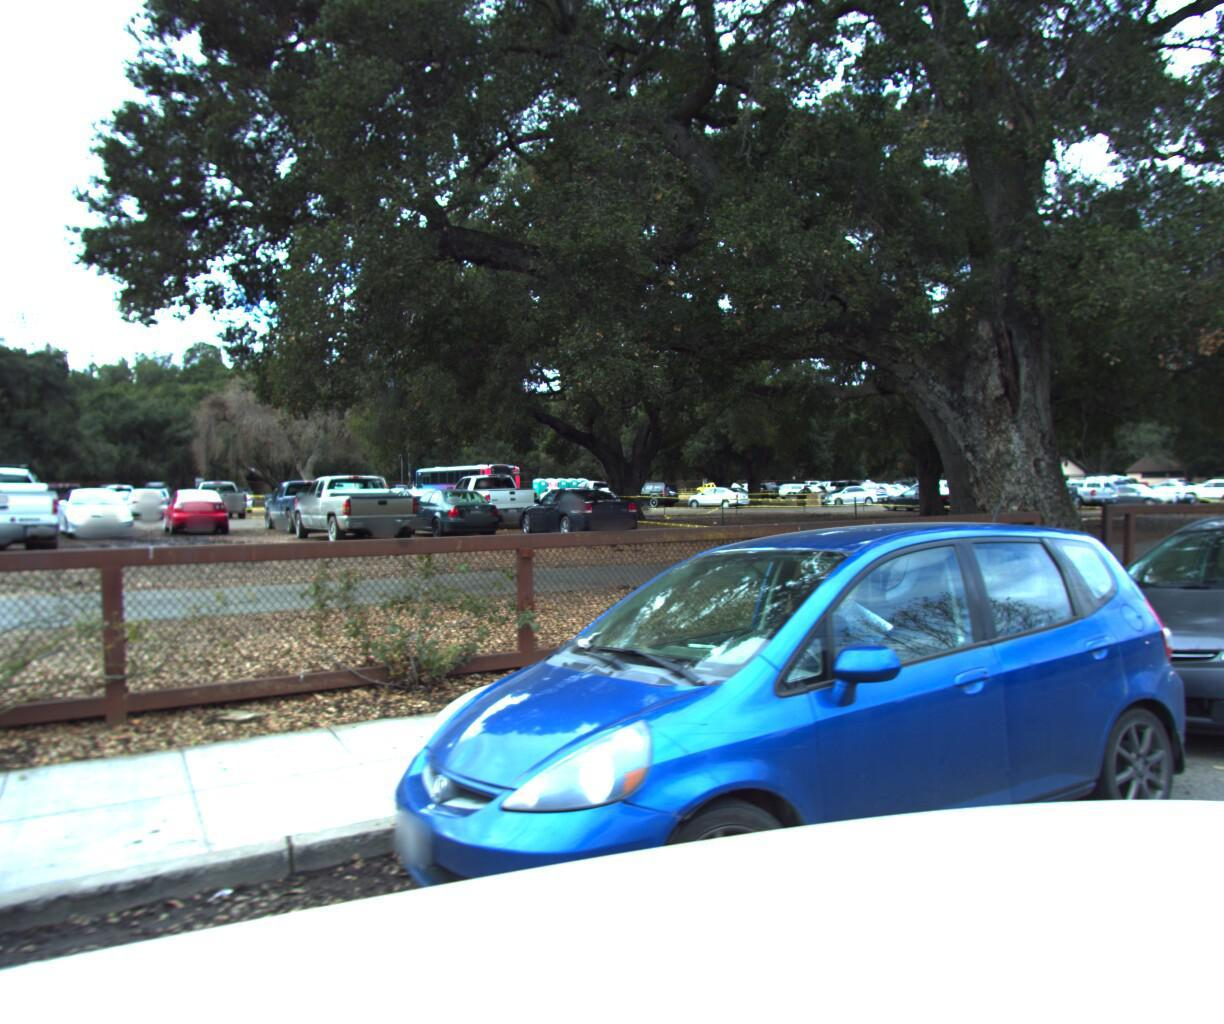car: (323, 498, 1224, 1024), (1008, 488, 1224, 798)
